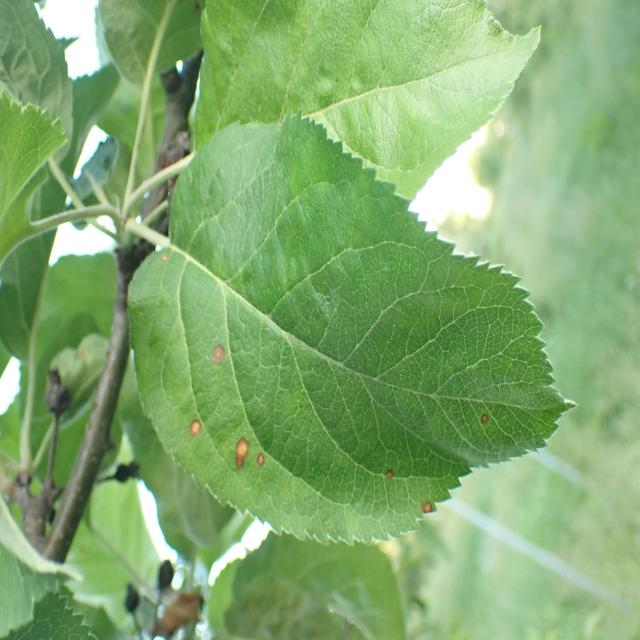Black Rot: (230, 426, 252, 484), (205, 332, 230, 375), (470, 405, 499, 441), (380, 460, 404, 498), (184, 414, 206, 454), (252, 435, 270, 483), (413, 492, 439, 518), (149, 243, 177, 266)
